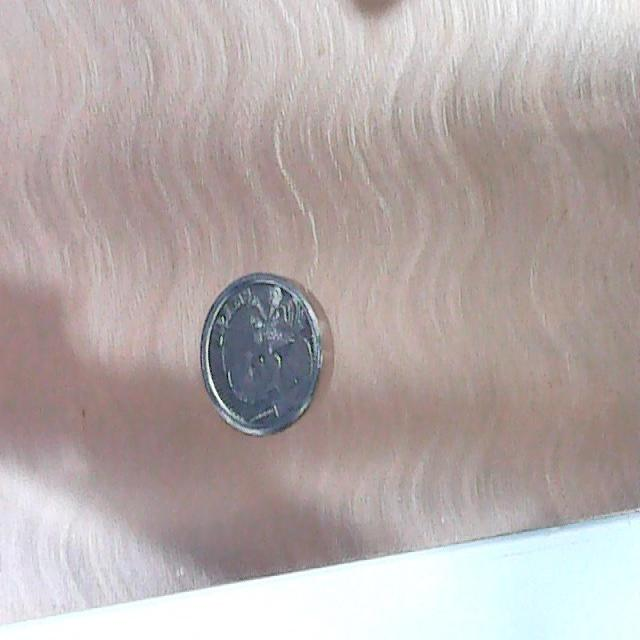50 cents: (194, 269, 326, 435)
